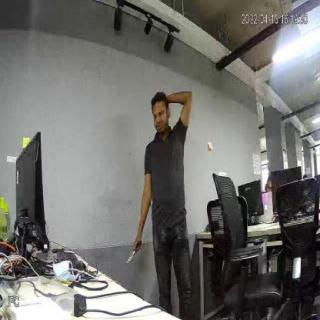knife: (126, 243, 142, 270)
